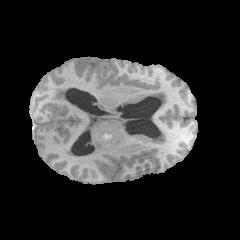glioma: (79, 122, 120, 150)
